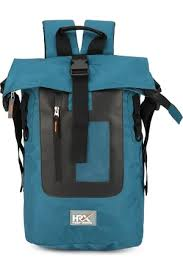backpack: (0, 18, 182, 250)
